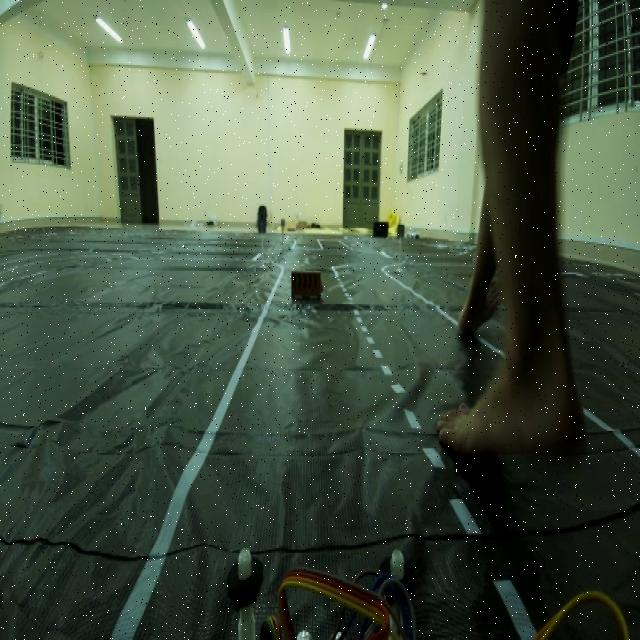roadblock: (286, 258, 328, 322)
